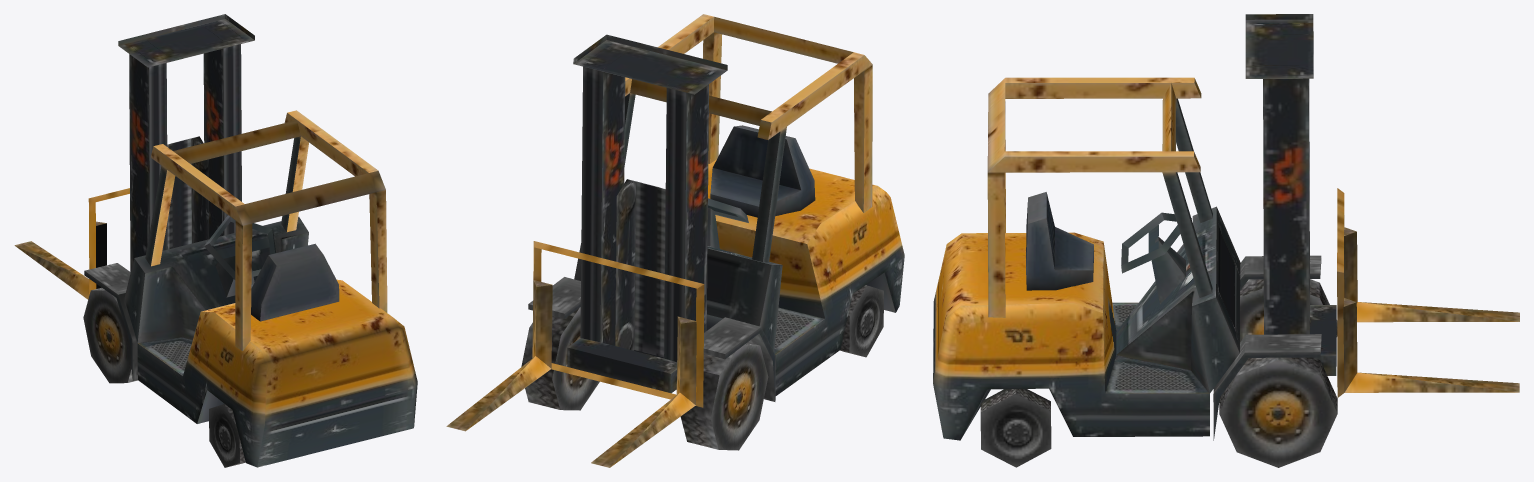
The model's file is p54_39_forklift.glb.
3 renders of one model, left to right at view 1: azimuth 30°, elevation 25°; view 2: azimuth 150°, elevation 25°; view 3: azimuth 270°, elevation 25°, orthographic. The views are drawn at different scales.
Parts seen in each view (by area): view 1: Body; view 2: Body; view 3: Body.
Boxes of the visible parts, x1,y1,x2,y2 form: Body: (14,14,417,467); Body: (446,14,904,467); Body: (933,14,1519,467).
Bounding box in the file's own units: 1.64 × 2.91 × 4.11.
1 material, 1 textured.
